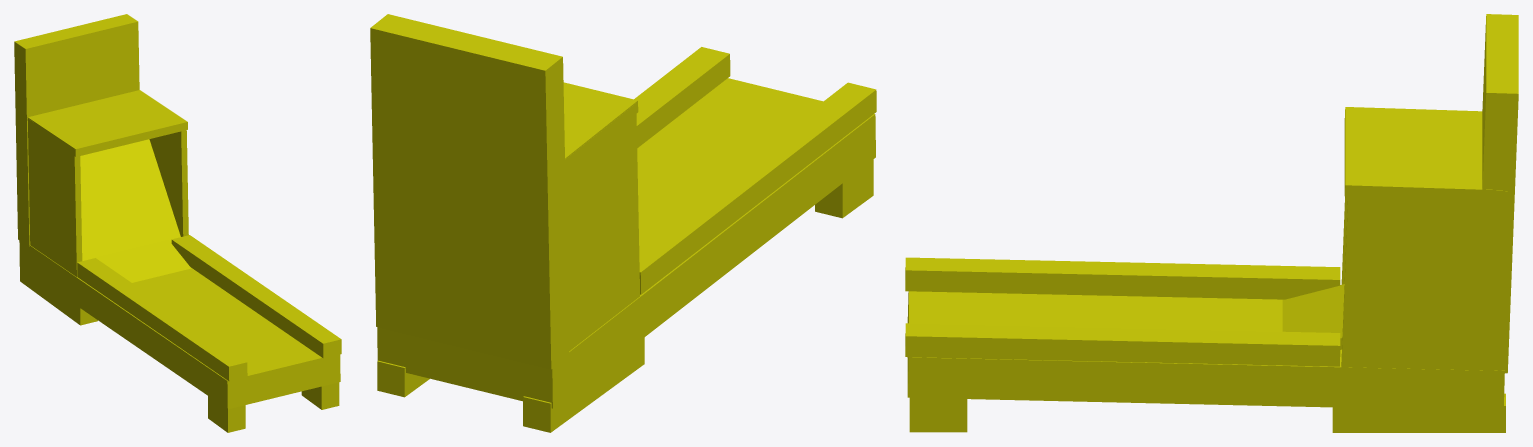
Rendered from skeeball-collider.dae.
The picture shows the model from 3 angles, left to right: view 1: azimuth 30°, elevation 25°; view 2: azimuth 150°, elevation 25°; view 3: azimuth 270°, elevation 25°; orthographic projection. The views are drawn at different scales.
Parts seen in each view (by area): view 1: Cube, Cube_005, Cube_007, Cube_003, Cube_006, Cube_001, Cube_002, Cube_004, Cube_008, Cube_012, Cube_009, Cube_010; view 2: Cube_005, Cube, Cube_003, Cube_001, Cube_002, Cube_012, Cube_006, Cube_009, Cube_011; view 3: Cube, Cube_004, Cube_002, Cube_001, Cube_006, Cube_005, Cube_011, Cube_008, Cube_010.
Boxes of the visible parts, box(x1,y1,x2,y2) form: Cube: box(19, 240, 340, 409); Cube_005: box(14, 14, 139, 246); Cube_007: box(80, 139, 180, 260); Cube_003: box(27, 118, 82, 276); Cube_006: box(27, 90, 187, 156); Cube_001: box(77, 258, 247, 381); Cube_002: box(171, 235, 341, 358); Cube_004: box(149, 130, 188, 236); Cube_008: box(92, 239, 191, 282); Cube_012: box(20, 267, 97, 325); Cube_009: box(208, 396, 245, 432); Cube_010: box(301, 382, 339, 409); Cube_005: box(370, 14, 568, 369); Cube: box(377, 78, 875, 408); Cube_003: box(565, 103, 639, 351); Cube_001: box(639, 82, 876, 294); Cube_002: box(634, 47, 730, 147); Cube_012: box(523, 337, 644, 432); Cube_006: box(563, 82, 638, 159); Cube_009: box(815, 159, 873, 218); Cube_011: box(377, 360, 429, 397); Cube: box(907, 291, 1504, 411); Cube_004: box(1341, 191, 1508, 370); Cube_002: box(905, 323, 1340, 366); Cube_001: box(905, 257, 1340, 299); Cube_006: box(1344, 107, 1505, 201); Cube_005: box(1482, 14, 1518, 373); Cube_011: box(1332, 393, 1505, 432); Cube_008: box(1282, 284, 1344, 349); Cube_010: box(909, 397, 967, 432).
Bounding box in the file's own units: 1.19 × 3.89 × 2.38.
